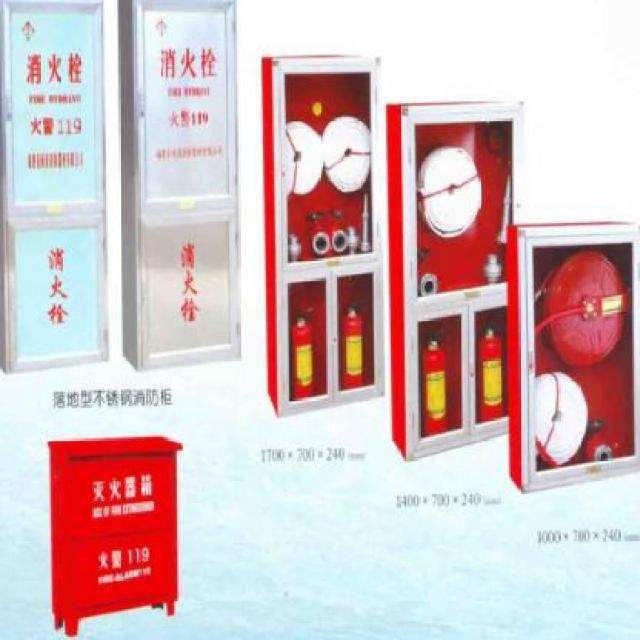firehydrant: (383, 89, 531, 468), (257, 49, 390, 424), (115, 0, 245, 375), (0, 0, 112, 380), (504, 215, 640, 496), (43, 429, 189, 639)
